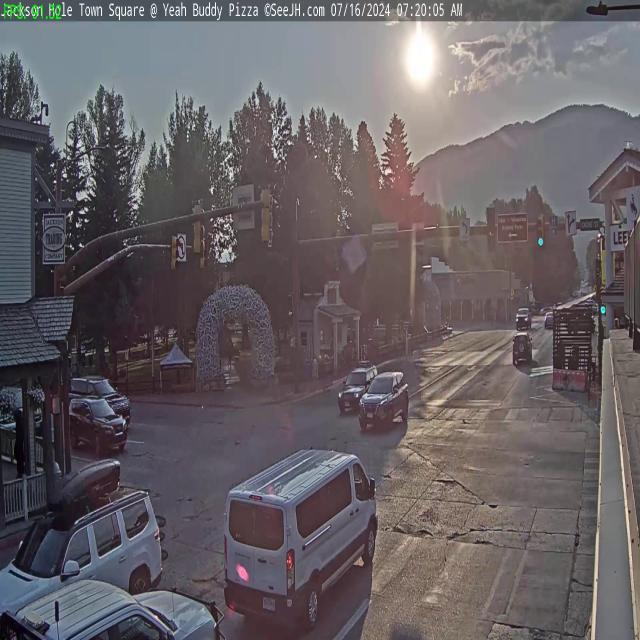suv: (0, 473, 168, 621), (66, 395, 129, 457), (362, 376, 412, 427), (336, 367, 374, 411), (516, 331, 532, 365)
traffic light: (260, 184, 273, 244), (190, 198, 203, 255), (486, 207, 496, 250), (171, 235, 181, 272), (537, 214, 546, 248)
van: (220, 440, 377, 639)
